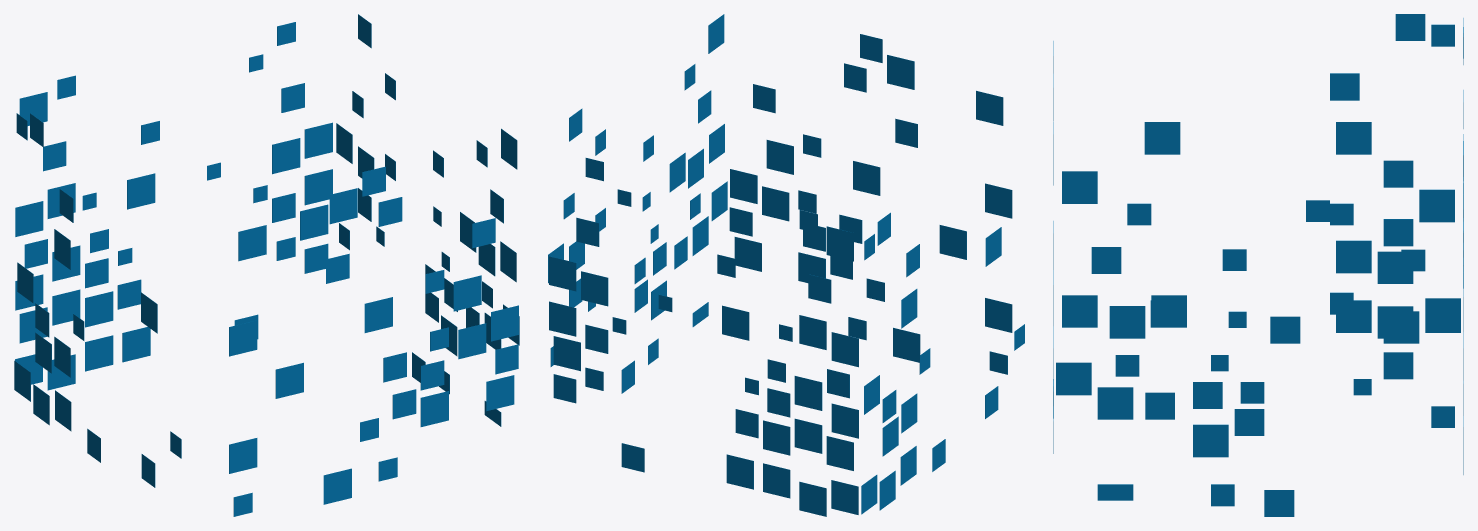
Rendered from Zoll_Base_Version3_Level_1_IfcPlate_part1.dae.
The picture shows the model from 3 angles, left to right: view 1: azimuth 30°, elevation 25°; view 2: azimuth 150°, elevation 25°; view 3: azimuth 270°, elevation 25°; orthographic projection. The views are drawn at different scales.
Parts seen in each view (by area): view 1: no part large enough to name; view 2: no part large enough to name; view 3: 2cW1ZNbTH7he$WurXRvAqT, 2cW1ZNbTH7he$WurXRvAtD, 2cW1ZNbTH7he$WurXRvAtc, 2cW1ZNbTH7he$WurXRvAtR, 2cW1ZNbTH7he$WurXRvAtF, 2cW1ZNbTH7he$WurXRvAqG, 2cW1ZNbTH7he$WurXRvAjr, 2cW1ZNbTH7he$WurXRvAg3, 2cW1ZNbTH7he$WurXRvAgP, 2cW1ZNbTH7he$WurXRvAgn, 2cW1ZNbTH7he$WurXRvAtC, 2cW1ZNbTH7he$WurXRvAgj (+28 smaller).
Part boxes in pixels (left/top/right/bottom): 2cW1ZNbTH7he$WurXRvAqT: left=1336, top=256, right=1371, bottom=273; 2cW1ZNbTH7he$WurXRvAtD: left=1056, top=378, right=1091, bottom=395; 2cW1ZNbTH7he$WurXRvAtc: left=1097, top=403, right=1133, bottom=419; 2cW1ZNbTH7he$WurXRvAtR: left=1377, top=322, right=1413, bottom=338; 2cW1ZNbTH7he$WurXRvAtF: left=1109, top=322, right=1145, bottom=338; 2cW1ZNbTH7he$WurXRvAqG: left=1144, top=138, right=1180, bottom=154; 2cW1ZNbTH7he$WurXRvAjr: left=1097, top=484, right=1133, bottom=500; 2cW1ZNbTH7he$WurXRvAg3: left=1097, top=387, right=1133, bottom=403; 2cW1ZNbTH7he$WurXRvAgP: left=1377, top=306, right=1413, bottom=322; 2cW1ZNbTH7he$WurXRvAgn: left=1151, top=295, right=1186, bottom=311; 2cW1ZNbTH7he$WurXRvAtC: left=1151, top=311, right=1186, bottom=327; 2cW1ZNbTH7he$WurXRvAgj: left=1062, top=295, right=1097, bottom=311.
Bounding box in the file's own units: 34.49 × 34.49 × 33.
